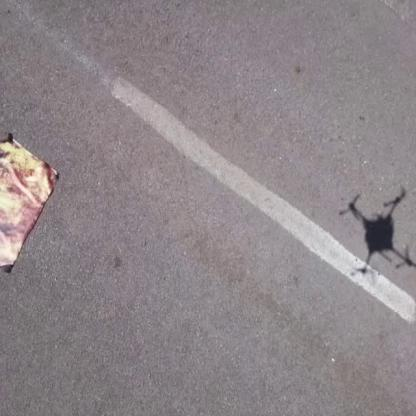fire-poster: (0, 131, 60, 274)
